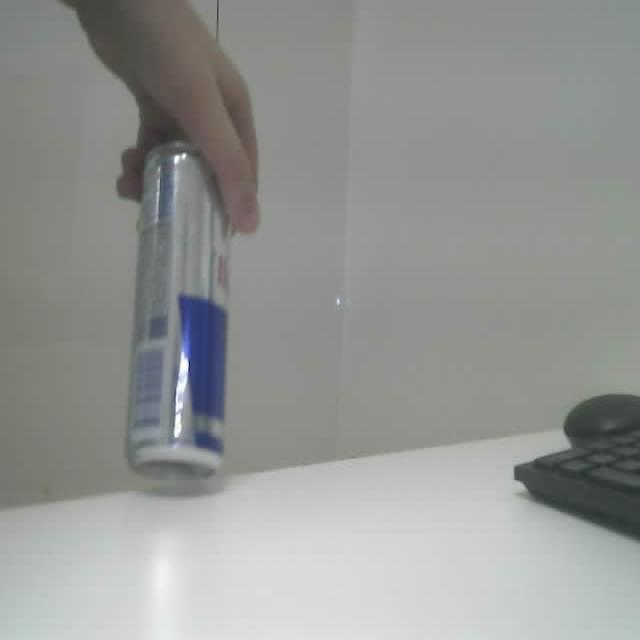redbull can: (126, 142, 231, 478)
